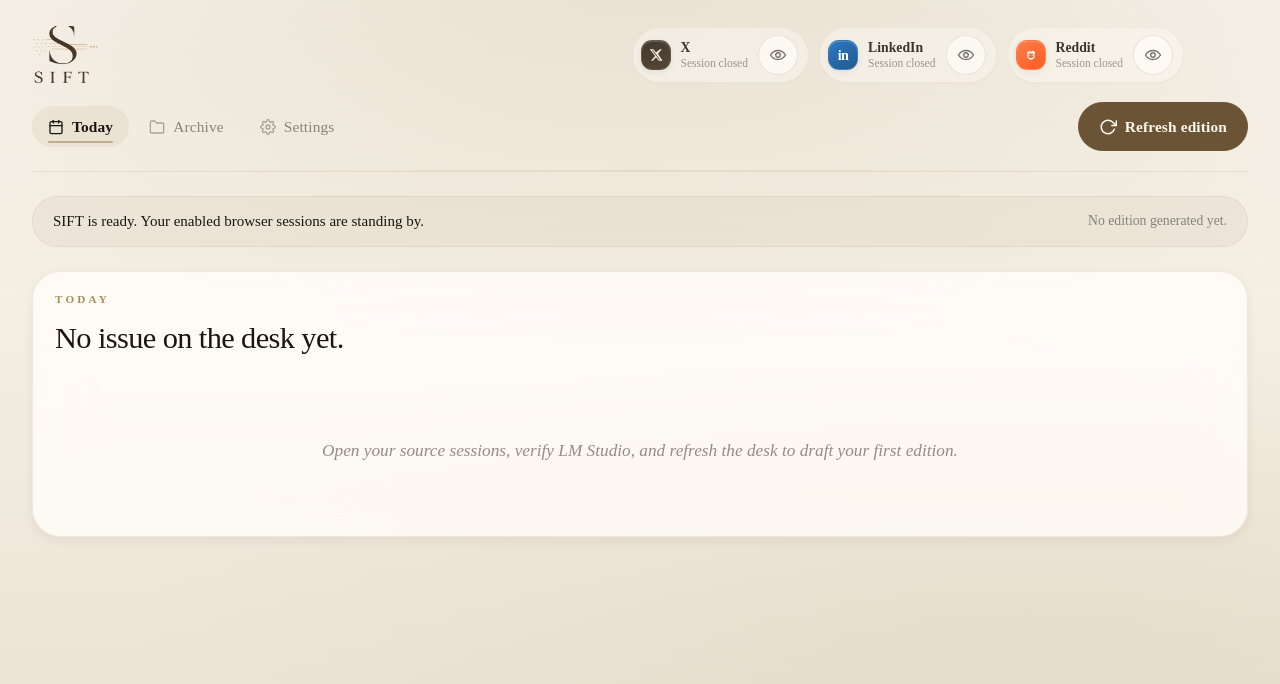
Test: App › shows when the next auto-run is blocked
The image size is (1280, 684).
Expected: the text "SIFT is ready." is shown, [53, 213, 424, 229]
Step 1. Click the button "Settings" → click(297, 127), box [244, 106, 350, 147]
(page scrolled)
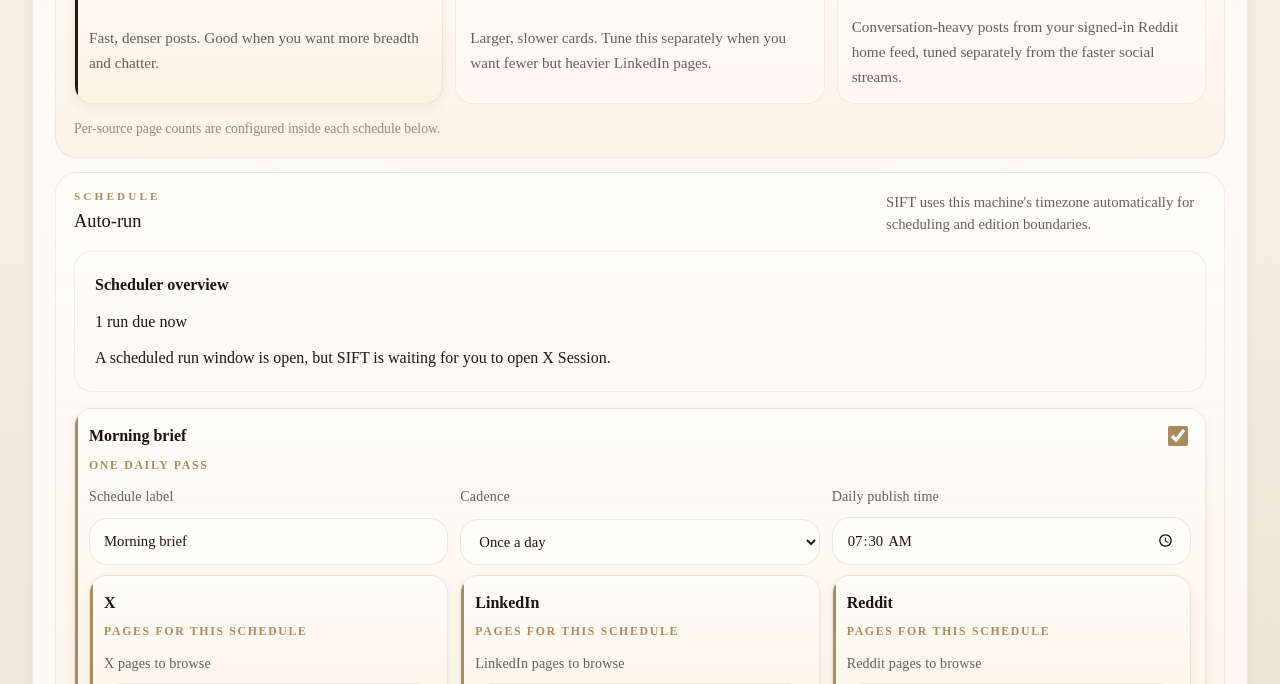
Expected: the text "Scheduler overview" is shown, [95, 276, 228, 293]
Expected: the text "1 run due now" is shown, [95, 313, 187, 330]
Expected: the text "A scheduled run window is open, but SIFT is waiting for you to open X Session." is shown, [95, 349, 611, 366]
